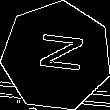N_W: (29, 33, 84, 79)
